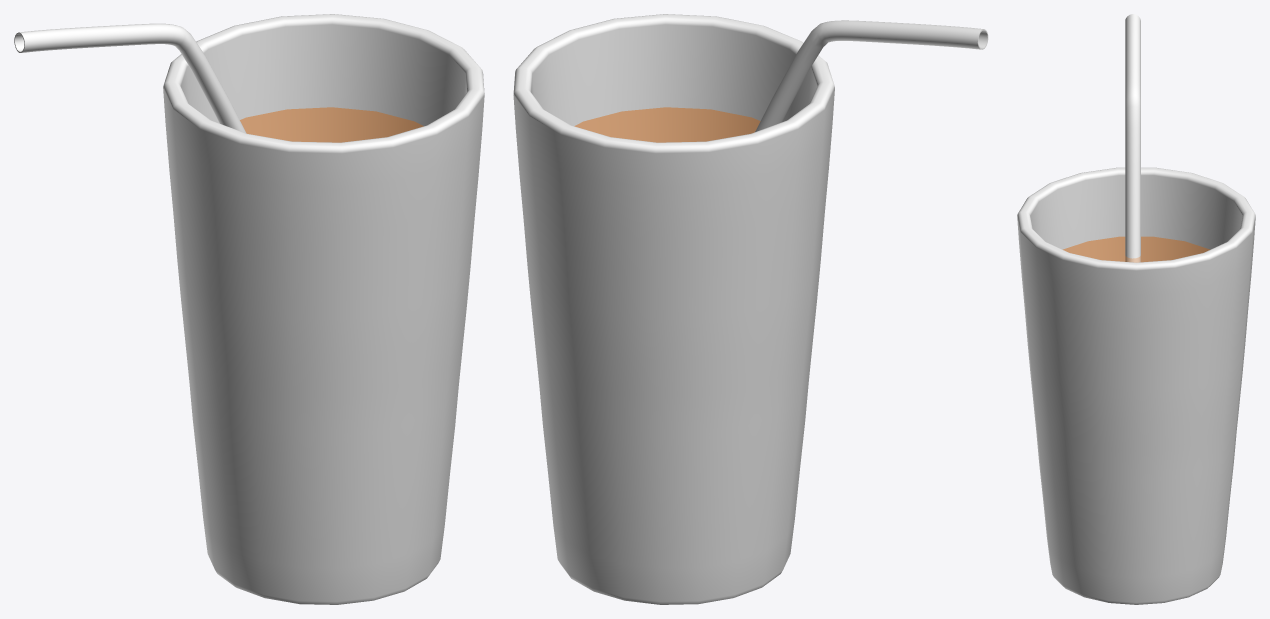
Rendered from juice.glb.
The picture shows the model from 3 angles, left to right: view 1: azimuth 30°, elevation 25°; view 2: azimuth 150°, elevation 25°; view 3: azimuth 270°, elevation 25°; orthographic projection. The views are drawn at different scales.
Visible parts, largest first — view 1: copo_low_01, copo_low_03, copo_low_02; view 2: copo_low_01, copo_low_03, copo_low_02; view 3: copo_low_01, copo_low_03, copo_low_02.
Boxes of the visible parts, x1,y1,x2,y2 form: copo_low_01: [163, 14, 484, 604]; copo_low_03: [14, 23, 246, 133]; copo_low_02: [240, 107, 423, 142]; copo_low_01: [513, 14, 834, 604]; copo_low_03: [755, 20, 988, 131]; copo_low_02: [575, 107, 760, 142]; copo_low_01: [1017, 167, 1255, 604]; copo_low_03: [1125, 14, 1140, 262]; copo_low_02: [1063, 237, 1209, 262].
Bounding box in the file's own units: 1.32 × 1.69 × 0.8192.
3 materials, 3 textured.
